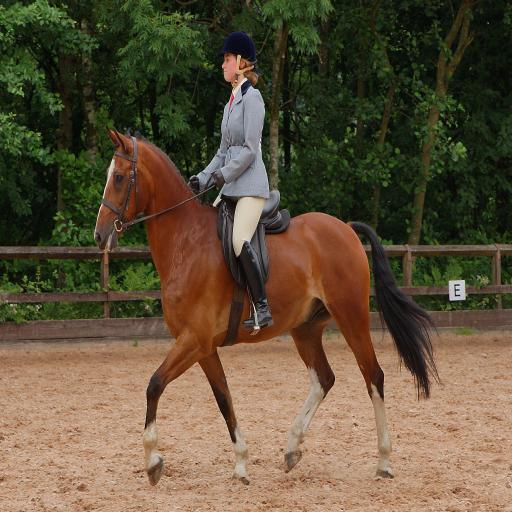horse: (94, 126, 442, 490)
